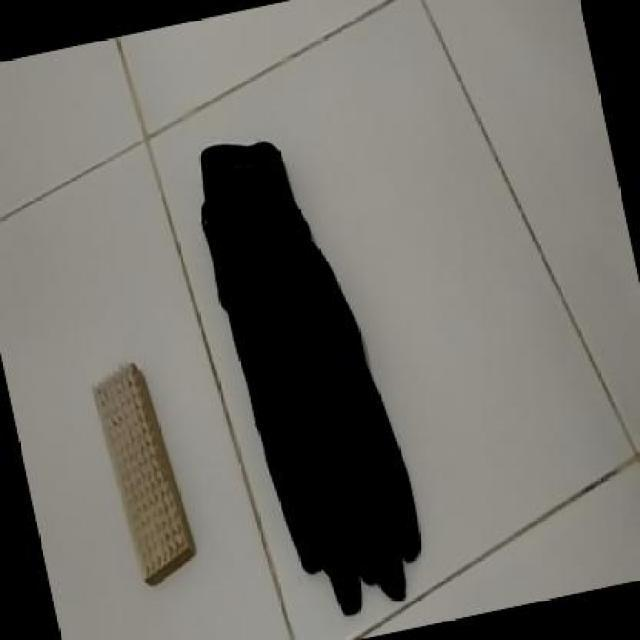glove: (199, 140, 422, 616)
